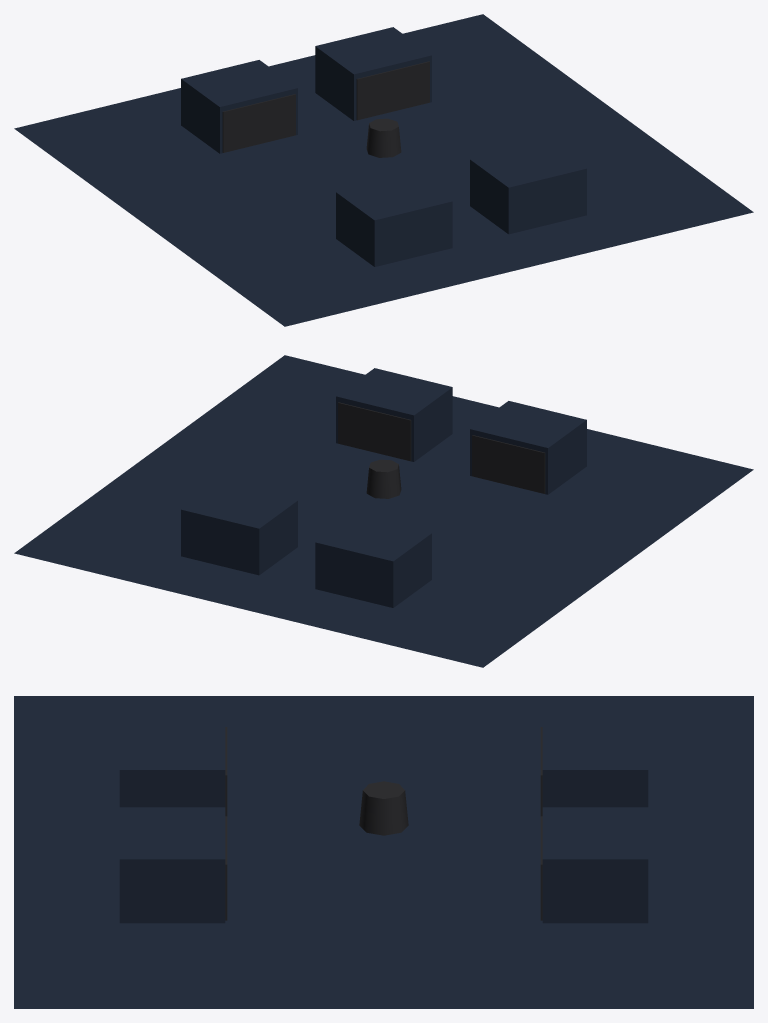
File: dng_02.glb
3 views of the same model, one above another, from view 1: azimuth 30°, elevation 25°; view 2: azimuth 150°, elevation 25°; view 3: azimuth 270°, elevation 25° (orthographic). The views are drawn at different scales.
Visible parts, largest first — view 1: scenario_base_floor, DNG_02; view 2: scenario_base_floor, DNG_02; view 3: scenario_base_floor, DNG_02.
Part boxes in pixels (x1=…): scenario_base_floor: x1=14, y1=14, x2=753, y2=326; DNG_02: x1=181, y1=27, x2=586, y2=266; scenario_base_floor: x1=14, y1=355, x2=753, y2=667; DNG_02: x1=181, y1=368, x2=586, y2=607; scenario_base_floor: x1=14, y1=696, x2=753, y2=1008; DNG_02: x1=119, y1=718, x2=648, y2=923.
Bounding box in the file's own units: 42 × 4 × 42.
